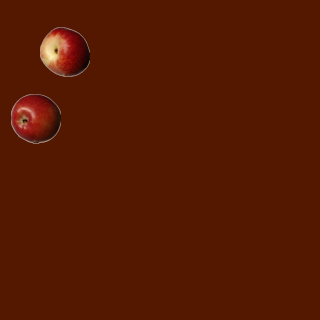Apple Braeburn: (10, 93, 60, 143)
Nectarine: (39, 26, 89, 76)
